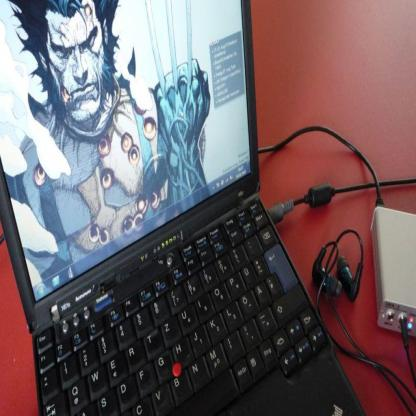board: (3, 8, 355, 416)
